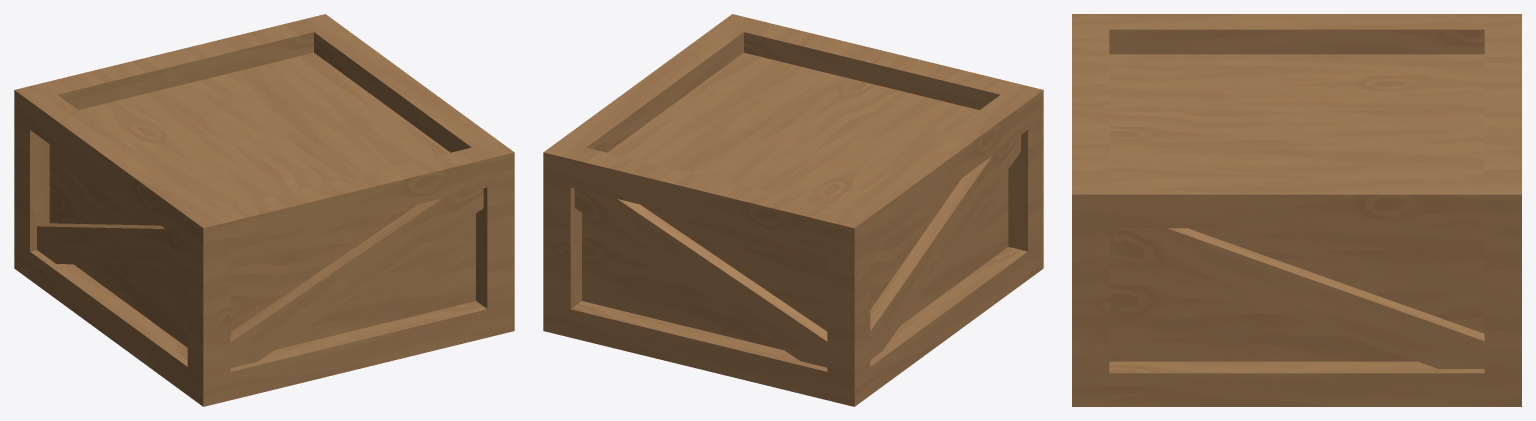
The model's file is SM_Crate_Wood_Small_01.fbx.
The picture shows the model from 3 angles, left to right: view 1: azimuth 30°, elevation 25°; view 2: azimuth 150°, elevation 25°; view 3: azimuth 270°, elevation 25°; orthographic projection. The views are drawn at different scales.
Visible parts, largest first — view 1: SM_Crate_Wood_Small_01; view 2: SM_Crate_Wood_Small_01; view 3: SM_Crate_Wood_Small_01.
Part boxes in pixels (x1,y1,x2,y2): SM_Crate_Wood_Small_01: (14, 14, 514, 406); SM_Crate_Wood_Small_01: (543, 14, 1043, 406); SM_Crate_Wood_Small_01: (1072, 14, 1521, 406).
Size of the model in its own units: 115 by 63.1 by 121.
